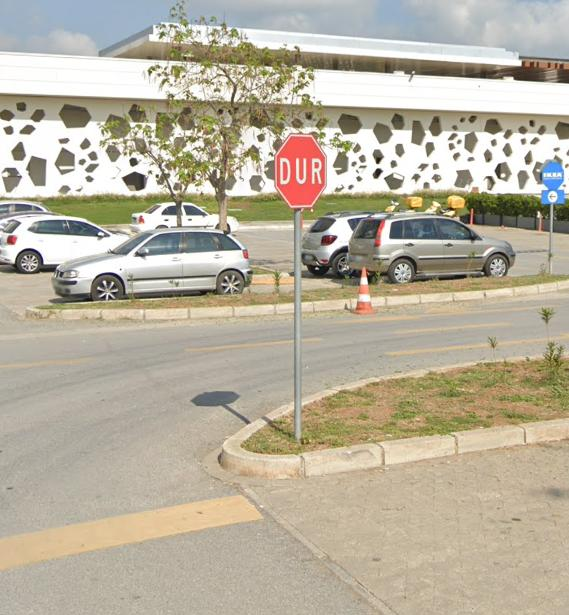stop: (275, 133, 330, 210)
